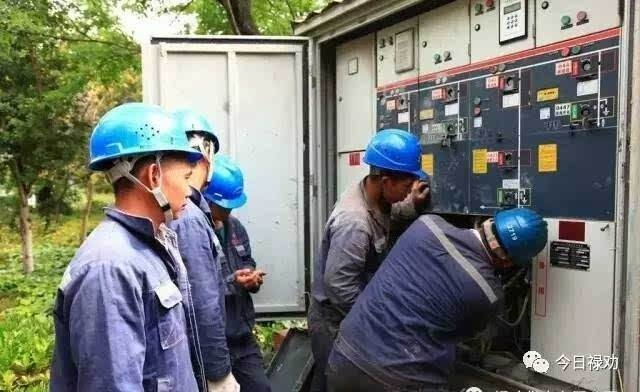blue: (87, 100, 191, 218), (480, 202, 549, 272), (365, 129, 422, 202), (173, 110, 217, 187), (198, 158, 246, 225)
